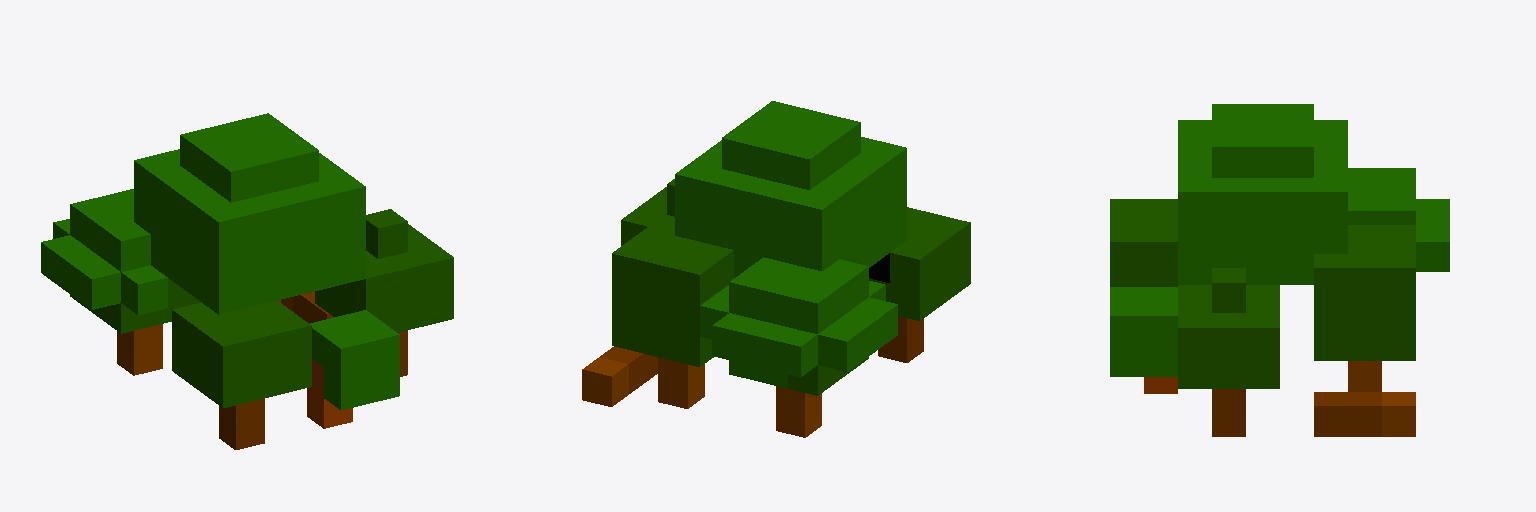
3 views of the same model, side by side, from view 1: azimuth 30°, elevation 25°; view 2: azimuth 150°, elevation 25°; view 3: azimuth 270°, elevation 25° (orthographic).
Visible parts, largest first — view 1: object 1; view 2: object 1; view 3: object 1.
Part boxes in pixels (bbox=[...]): object 1: bbox=[41, 113, 453, 449]; object 1: bbox=[582, 101, 970, 437]; object 1: bbox=[1110, 104, 1449, 436].
Size of the model in its own units: 1 by 0.8 by 1.
Materials: 1 (1 with a texture image).